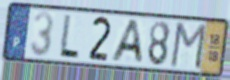2: (88, 16, 112, 63)
3: (28, 9, 56, 60)
8: (147, 20, 172, 68)
A: (109, 19, 145, 66)
L: (57, 13, 81, 61)
M: (168, 21, 208, 72)
